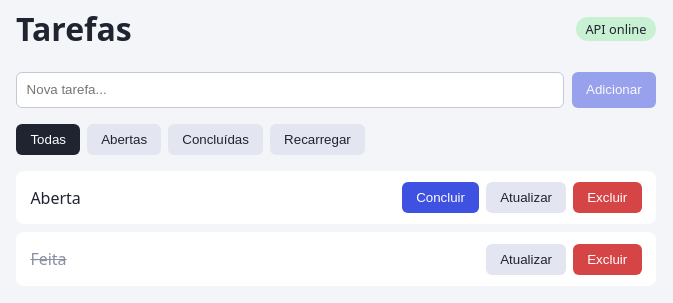
Test: App › filters tasks
Expected: the text "Aberta" is shown, left=30, top=187, right=81, bottom=209
Click the button "Concluídas" at [216, 140], box left=168, top=124, right=263, bottom=155
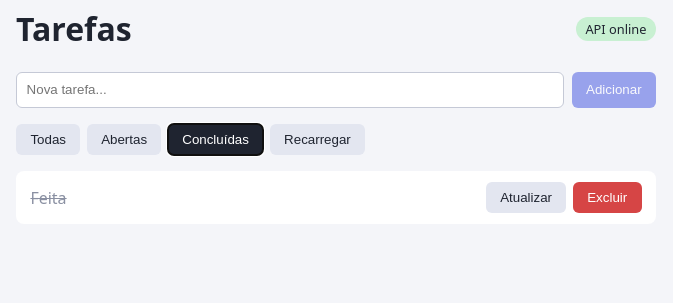
Expected: the text "Feita" is shown, left=30, top=187, right=67, bottom=209
Click the button "Abertas" at [124, 140], box left=87, top=124, right=162, bottom=155
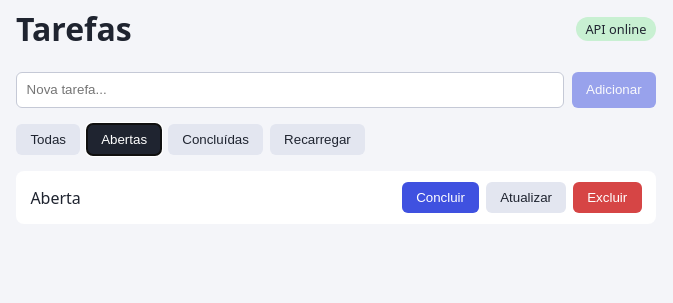
Expected: the text "Aberta" is shown, left=30, top=187, right=81, bottom=209
Expected: the text "Feita" is gone
